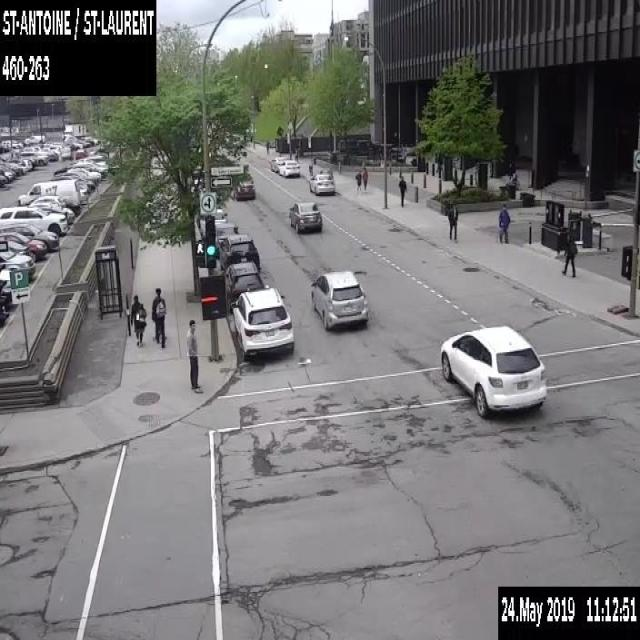construction: (276, 126, 283, 135)
pedestrian: (184, 319, 203, 393), (149, 284, 166, 349), (128, 292, 147, 348), (560, 231, 577, 277), (495, 201, 510, 243), (446, 199, 459, 240), (398, 173, 408, 207), (354, 168, 362, 194), (362, 166, 368, 191), (294, 145, 298, 160), (266, 138, 268, 154)
vehicle: (440, 322, 547, 418), (230, 286, 294, 361), (308, 265, 368, 332), (18, 178, 80, 212), (225, 260, 263, 313), (0, 205, 67, 233), (218, 232, 260, 270), (0, 222, 58, 246), (0, 230, 46, 260), (287, 198, 321, 234), (26, 202, 75, 223), (0, 249, 35, 277), (214, 220, 239, 256), (54, 166, 100, 184), (198, 208, 227, 236), (0, 239, 35, 260), (308, 170, 335, 194), (231, 172, 254, 200), (55, 173, 95, 188), (70, 163, 106, 179), (74, 159, 109, 173), (29, 194, 65, 206), (277, 158, 300, 176), (0, 267, 14, 294), (18, 150, 48, 162), (8, 158, 31, 172), (270, 155, 288, 172), (0, 163, 22, 176), (78, 155, 105, 164), (0, 295, 9, 321), (23, 133, 44, 144), (0, 164, 15, 178), (78, 183, 88, 203), (60, 146, 73, 160), (74, 148, 88, 160), (44, 144, 60, 153), (46, 150, 58, 159), (22, 145, 40, 151), (0, 174, 8, 185), (38, 147, 51, 153)
